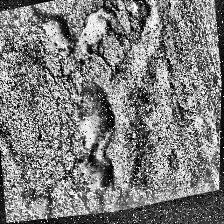pothole: (63, 81, 125, 201), (28, 0, 80, 66), (73, 3, 123, 59), (124, 0, 154, 36), (28, 193, 58, 221)
